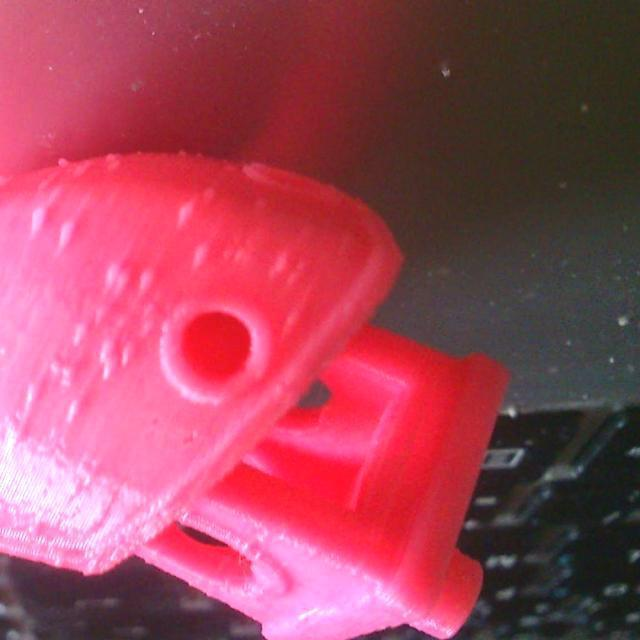zits: (94, 260, 132, 296), (132, 260, 168, 296), (44, 354, 82, 382), (90, 342, 120, 376), (59, 393, 92, 423), (54, 220, 82, 252), (186, 240, 214, 268), (174, 195, 202, 223), (115, 339, 142, 367), (15, 380, 44, 405), (22, 202, 52, 226), (64, 318, 90, 342), (270, 251, 292, 277)
